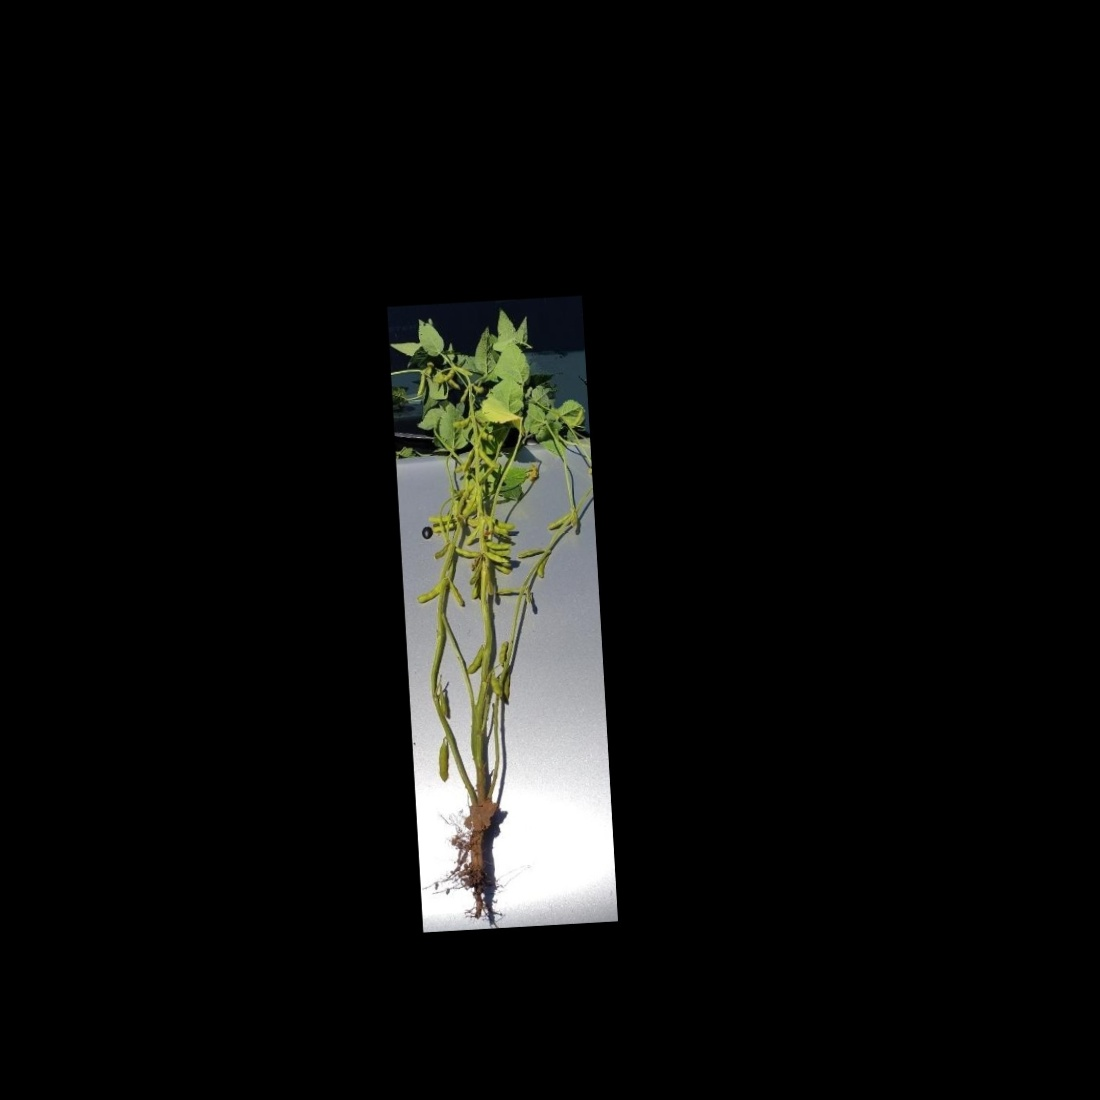pod: (433, 739, 455, 788), (445, 573, 469, 611), (474, 442, 501, 473), (461, 518, 487, 549), (413, 581, 441, 607), (463, 642, 484, 676), (512, 545, 547, 560), (482, 549, 510, 567), (453, 544, 484, 560), (495, 637, 510, 667), (483, 537, 514, 551), (450, 414, 472, 430)
soy: (401, 324, 609, 904)
